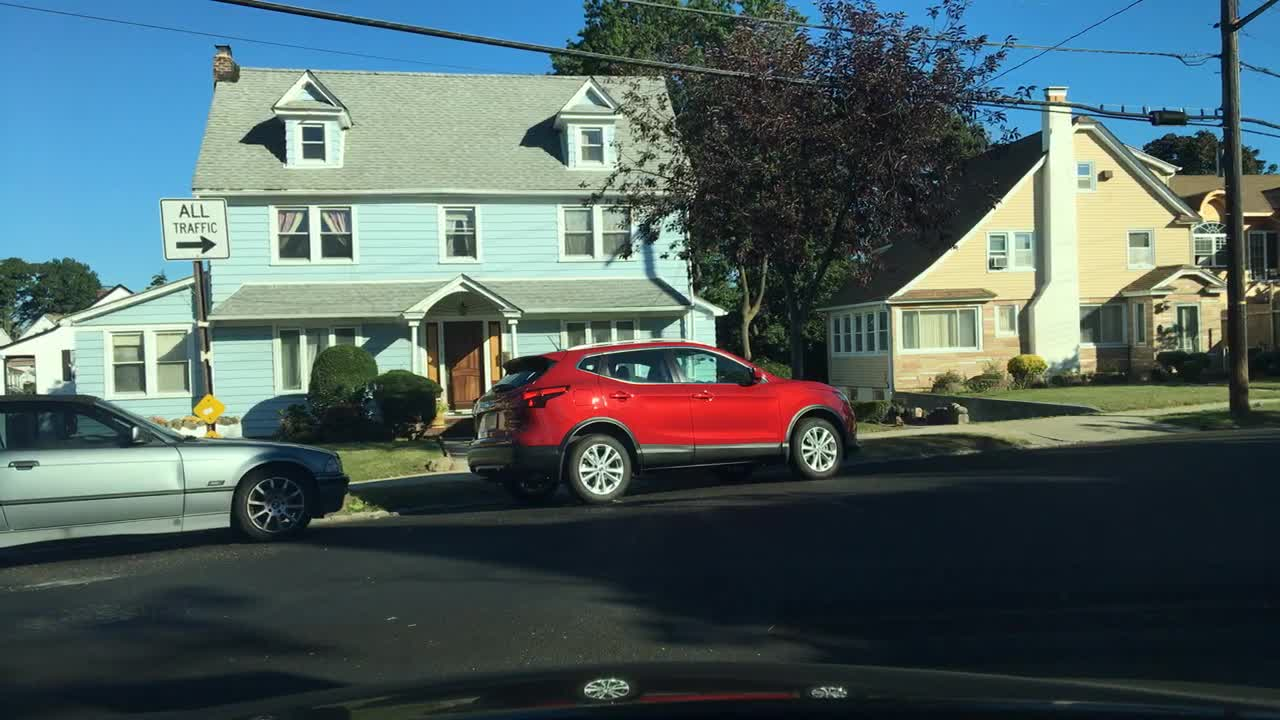car: (465, 338, 855, 505), (0, 392, 349, 551)
traffic sign: (161, 199, 227, 258), (192, 394, 224, 422), (200, 430, 222, 438)
